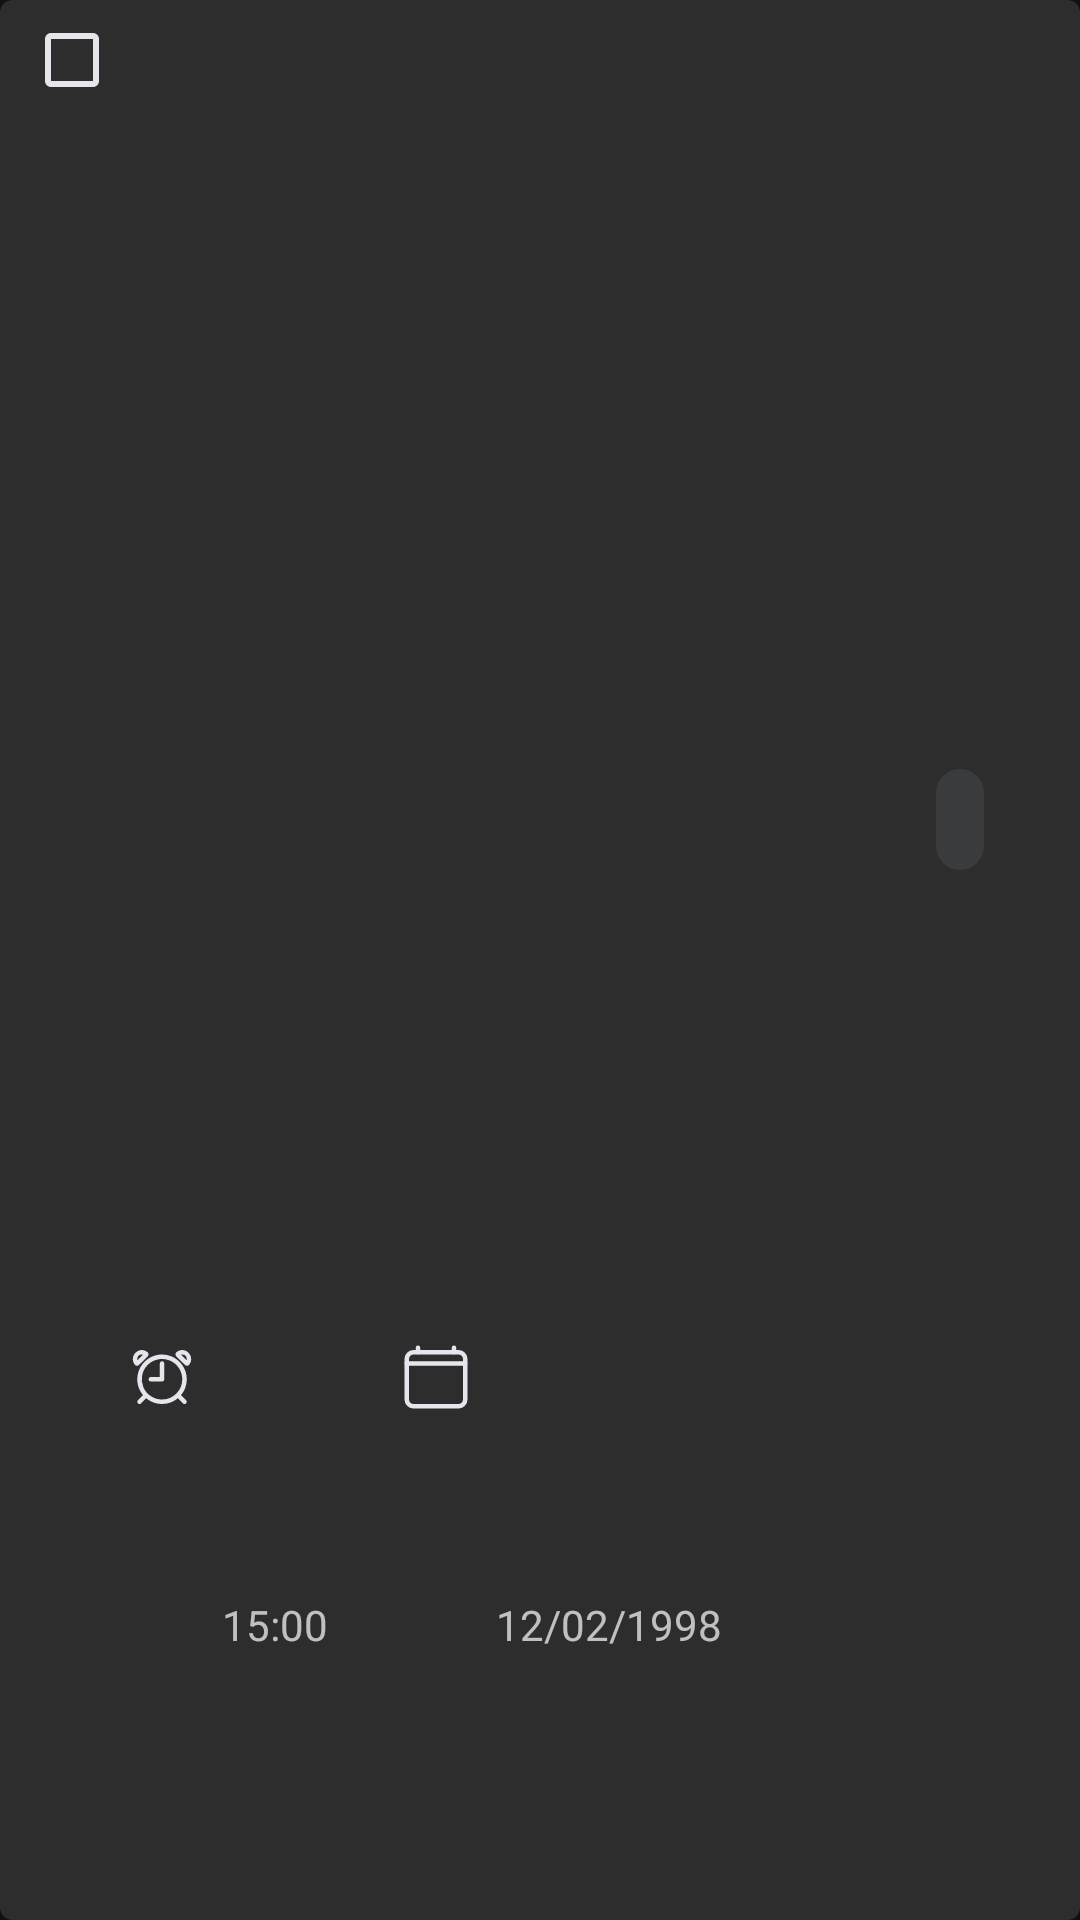

Named icons in this screenshot (1080 × 1920) and their centers, (x,y):
Image for the icon hour task: (162,1377)
Image for the task calendar: (436,1377)
